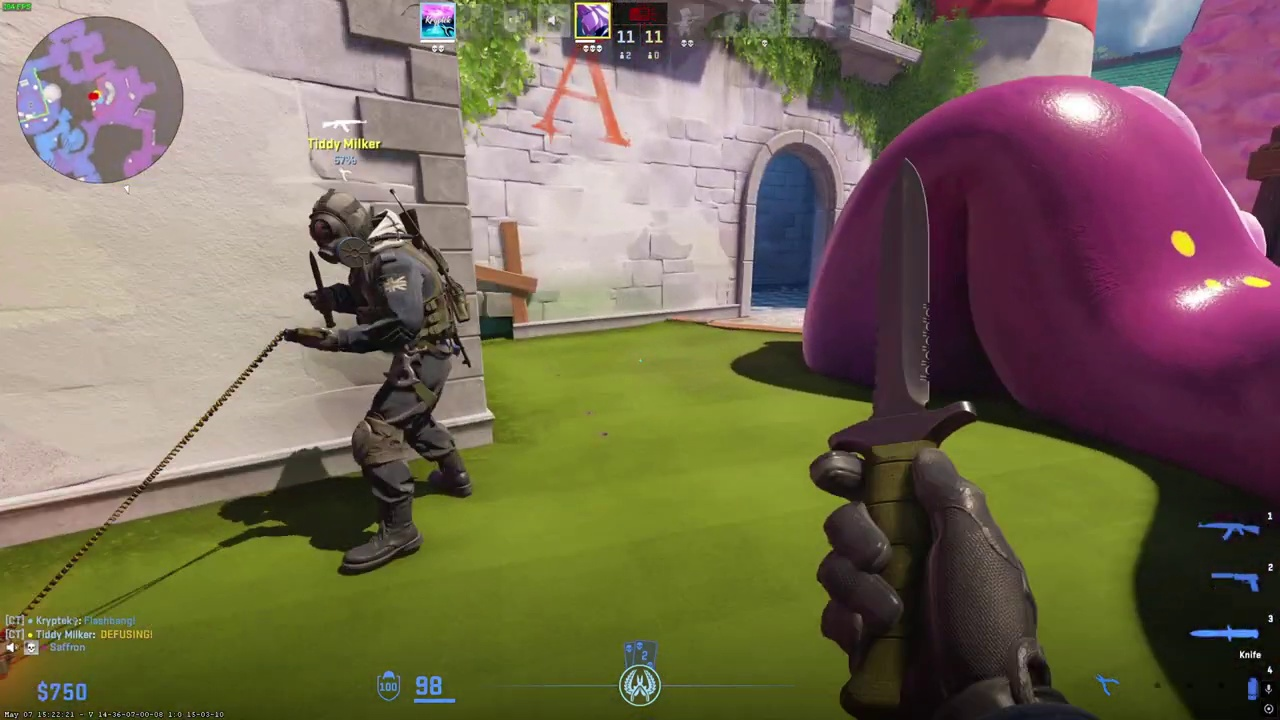CT: (307, 188, 472, 570)
